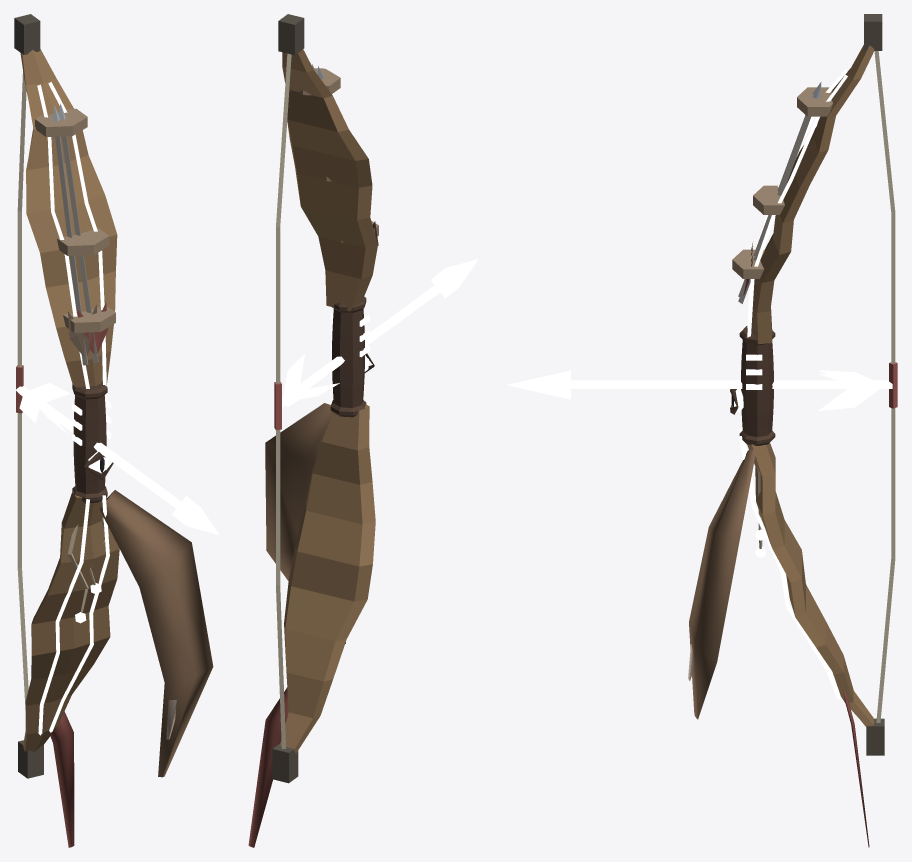
File: bow-blood-trail.glb
The picture shows the model from 3 angles, left to right: view 1: azimuth 30°, elevation 25°; view 2: azimuth 150°, elevation 25°; view 3: azimuth 270°, elevation 25°; orthographic projection. The views are drawn at different scales.
Parts seen in each view (by area): view 1: bow-blood-trail, pulse_vein, pulse_arrow, string, blink_eye, sway_sinewb; view 2: bow-blood-trail, string, pulse_arrow; view 3: bow-blood-trail, pulse_arrow, string, pulse_vein.
Part boxes in pixels (left/top/right/bottom): bow-blood-trail: left=14, top=14, right=213, bottom=847; pulse_vein: left=37, top=82, right=109, bottom=735; pulse_arrow: left=16, top=383, right=219, bottom=534; string: left=16, top=71, right=28, bottom=709; blink_eye: left=84, top=451, right=113, bottom=479; sway_sinewb: left=67, top=525, right=88, bottom=623; bow-blood-trail: left=248, top=14, right=378, bottom=847; string: left=274, top=53, right=291, bottom=748; pulse_arrow: left=282, top=259, right=478, bottom=407; bow-blood-trail: left=688, top=14, right=884, bottom=847; pulse_arrow: left=507, top=370, right=892, bottom=410; string: left=874, top=51, right=897, bottom=722; pulse_vein: left=739, top=69, right=847, bottom=699.
Bounding box in the file's own units: 0.2997 × 1.66 × 0.7245.
